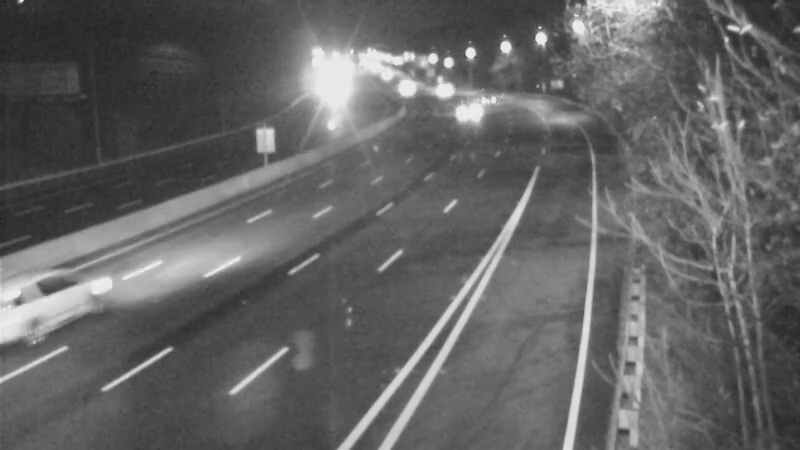vehicle: (1, 247, 111, 357), (383, 66, 433, 116), (415, 67, 465, 117), (458, 76, 508, 126), (440, 90, 490, 140), (312, 52, 362, 102)
